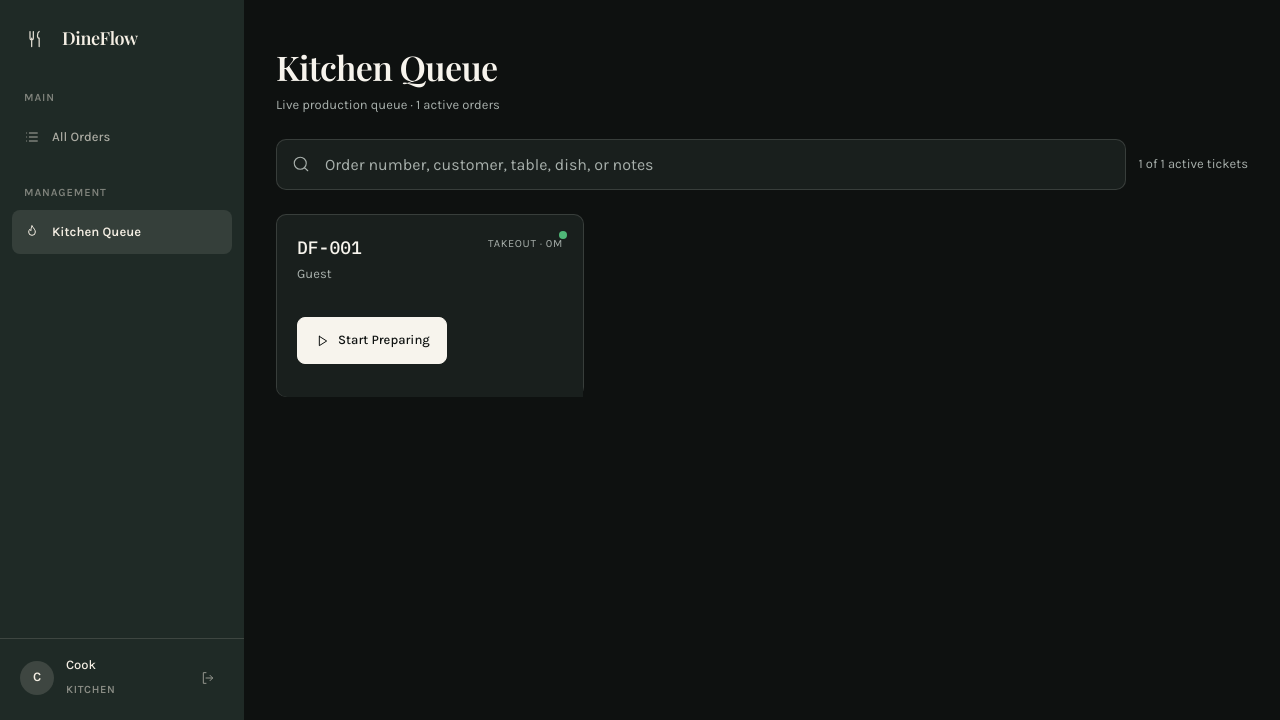
kitchen status advances on screen after saving, without a realtime event
Click the button "Start Preparing": (372, 341) [297,317,447,364]
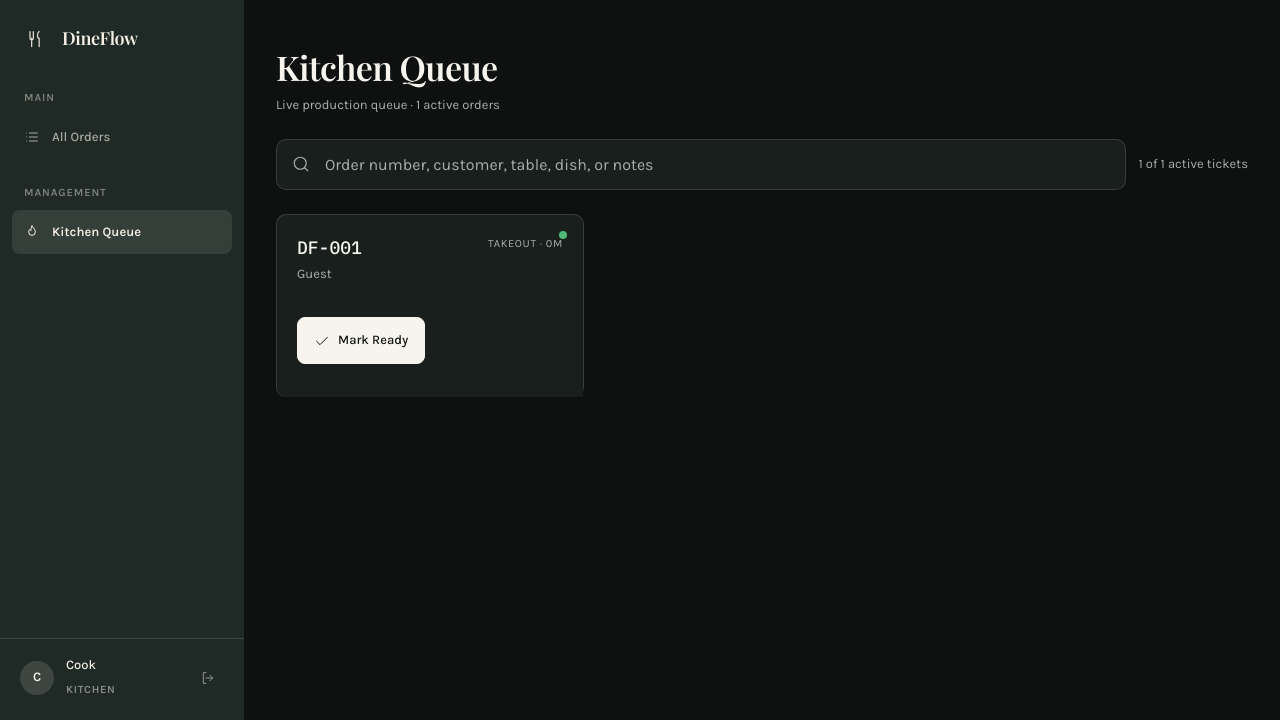
expect the button "Mark Ready" is shown: met, box [297,317,425,364]
